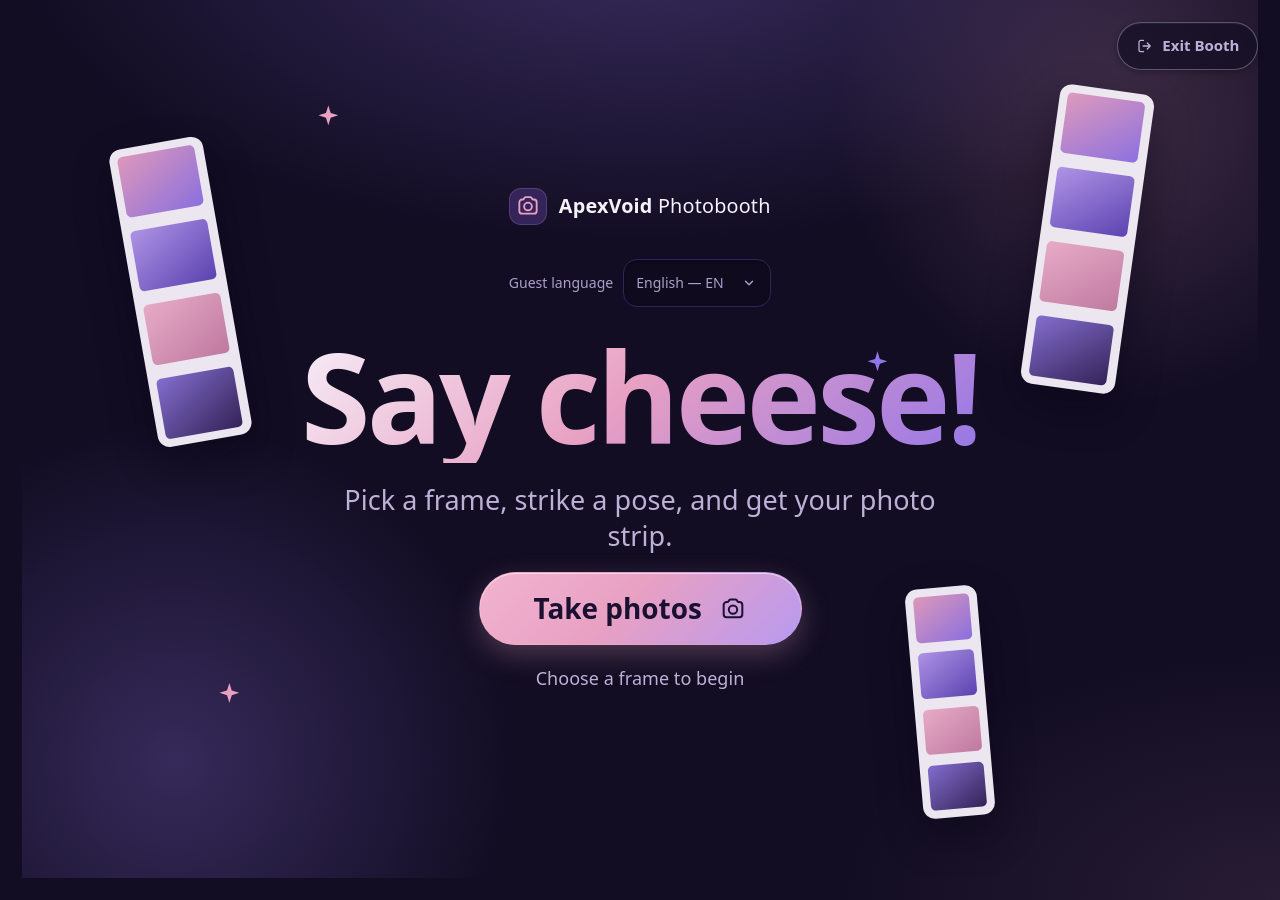
Booth exit › opens the confirmation from the button, with the required wording
Click the button with aria-label "Exit Booth Mode" at (1188, 46), box left=1117, top=22, right=1258, bottom=70
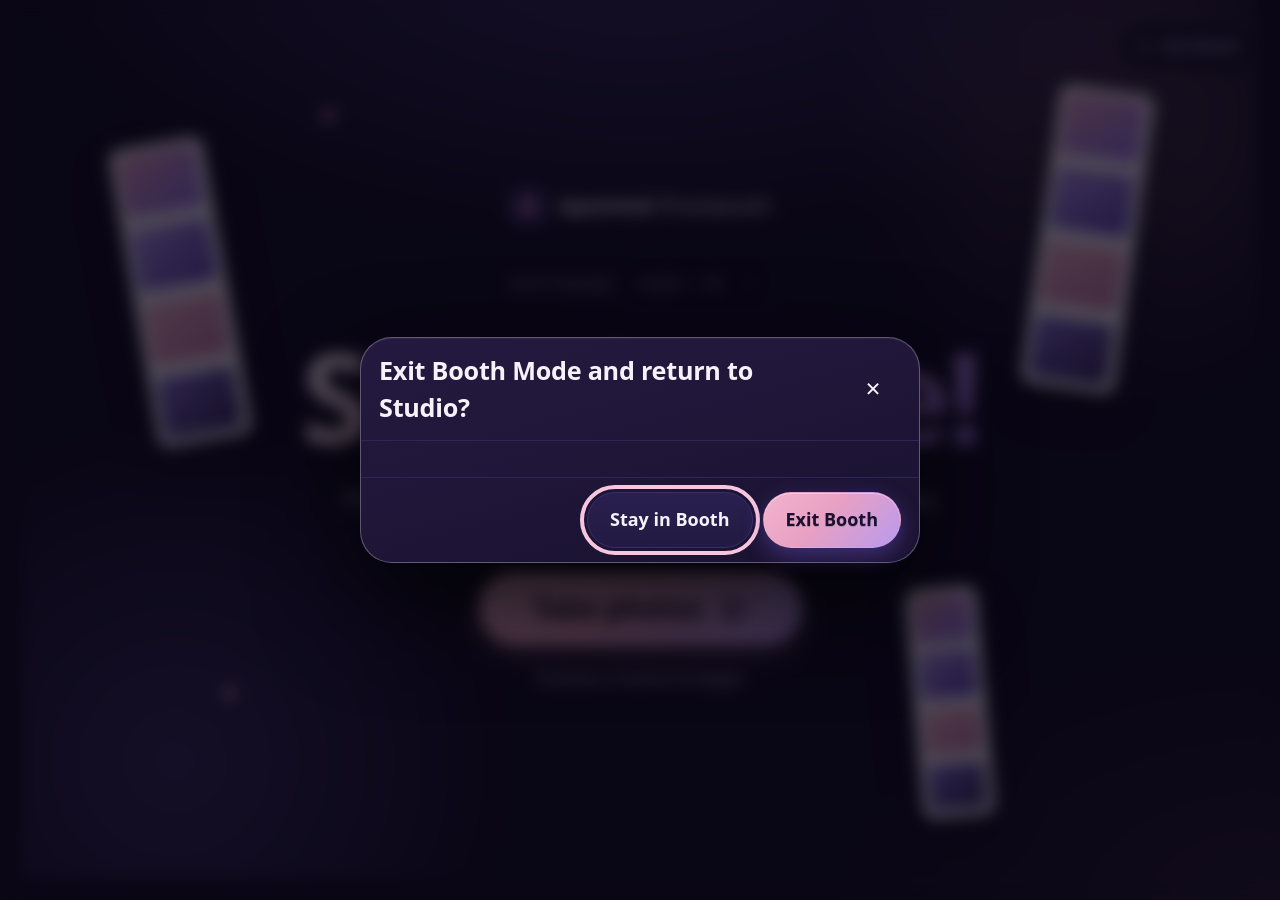
expect the dialog "Exit Booth Mode and return to Studio?" is shown: met, box left=360, top=338, right=920, bottom=563
expect the heading "Exit Booth Mode and return to Studio?" is shown: met, box left=379, top=354, right=753, bottom=424
